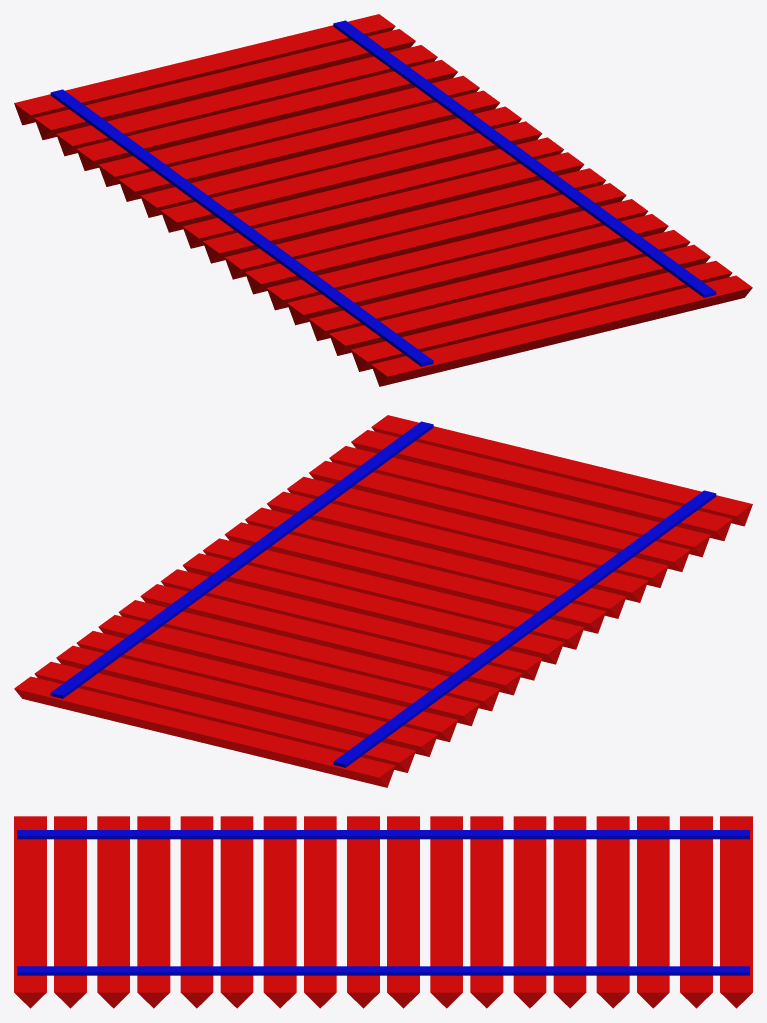
File: Makisu_1_low.fbx
3 views of the same model, one above another, from view 1: azimuth 30°, elevation 25°; view 2: azimuth 150°, elevation 25°; view 3: azimuth 270°, elevation 25° (orthographic).
Parts seen in each view (by area): view 1: Makisu_1_low; view 2: Makisu_1_low; view 3: Makisu_1_low.
Boxes of the visible parts, <box> form: Makisu_1_low: <box>14,14,752,386</box>; Makisu_1_low: <box>14,415,752,787</box>; Makisu_1_low: <box>14,816,752,1008</box>.
Size of the model in its own units: 0.3 by 0.0154 by 0.5318.
